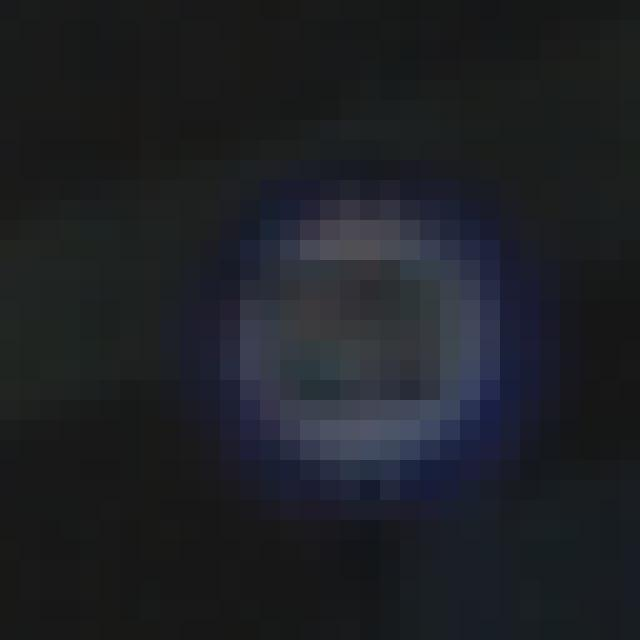SPEED LIMIT 120: (197, 162, 530, 490)
